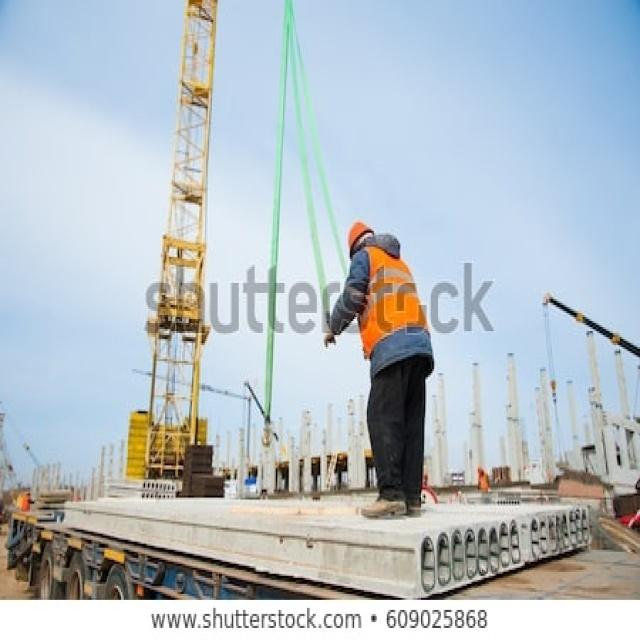helmet: (347, 294, 374, 342)
vest: (359, 332, 429, 475)
